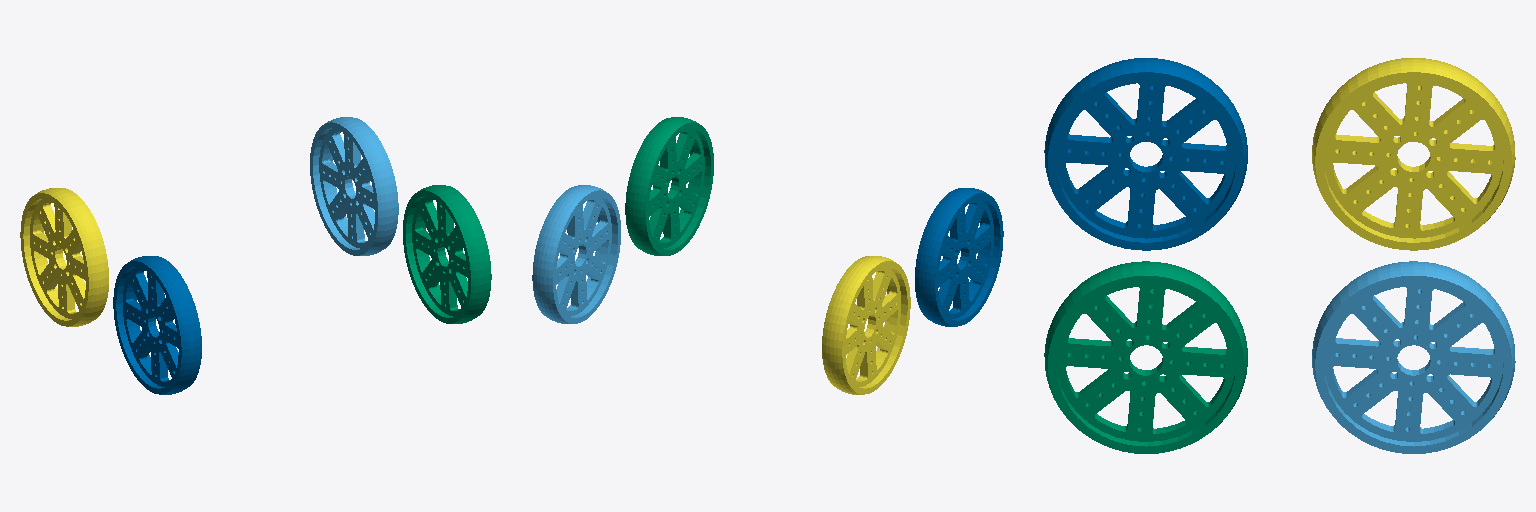
The robot description file, URDF, robot "opera":
<?xml version="1.0"?>

<robot name="opera">

    <link name="base_link">
	<inertial>
            <origin xyz="0 0 0" rpy="0 0 0"/>
            <mass value="0.01" />
            <inertia ixx="7.58333333333e-06" ixy="0.0" ixz="0.0" iyy="7.58333333333e-06" iyz="0.0" izz="1.25e-05"/>
        </inertial>

	<collision>
		<origin rpy="0 0 0" xyz="0 0 0"/>
		<geometry>
		    <mesh filename="package://opera_description/models/base.dae"/>
		</geometry>
        </collision>

        <visual>
		<origin rpy="0 0 0" xyz="0 0 0"/>
		<geometry>
		    <mesh filename="package://opera_description/models/base.dae"/>
		</geometry>
        </visual>
    </link>
  
    <link name="wheel_r1">
	<inertial>
            <origin xyz="0 0 0" rpy="0 0 0"/>
            <mass value="0.01" />
            <inertia ixx="7.58333333333e-06" ixy="0.0" ixz="0.0" iyy="7.58333333333e-06" iyz="0.0" izz="1.25e-05"/>
        </inertial>

	<collision>
            <origin rpy="0 0 0" xyz="0 0 0"/>
            <geometry>
                <mesh filename="package://opera_description/models/llanta.dae"/>
            </geometry>
        </collision>

        <visual>
            <origin rpy="0 0 0" xyz="0 0 0"/>
            <geometry>
                <mesh filename="package://opera_description/models/llanta.dae"/>
            </geometry>
        </visual>
    </link>

    <link name="wheel_r2">
	<inertial>
            <origin xyz="0 0 0" rpy="0 0 0"/>
            <mass value="0.01" />
            <inertia ixx="7.58333333333e-06" ixy="0.0" ixz="0.0" iyy="7.58333333333e-06" iyz="0.0" izz="1.25e-05"/>
        </inertial>

	<collision>
            <origin rpy="0 0 0" xyz="0 0 0"/>
            <geometry>
                <mesh filename="package://opera_description/models/llanta.dae"/>
            </geometry>
        </collision>

        <visual>
            <origin rpy="0 0 0" xyz="0 0 0"/>
            <geometry>
                <mesh filename="package://opera_description/models/llanta.dae"/>
            </geometry>
        </visual>
    </link>

    <link name="wheel_l1">
	<inertial>
            <origin xyz="0 0 0" rpy="0 0 0"/>
            <mass value="0.01" />
            <inertia ixx="7.58333333333e-06" ixy="0.0" ixz="0.0" iyy="7.58333333333e-06" iyz="0.0" izz="1.25e-05"/>
        </inertial>

	<collision>
            <origin rpy="0 0 0" xyz="0 0 0"/>
            <geometry>
                <mesh filename="package://opera_description/models/llanta.dae"/>
            </geometry>
        </collision>

        <visual>
            <origin rpy="0 0 0" xyz="0 0 0"/>
            <geometry>
                <mesh filename="package://opera_description/models/llanta.dae"/>
            </geometry>
        </visual>
    </link>

    <link name="wheel_l2">
	<inertial>
            <origin xyz="0 0 0" rpy="0 0 0"/>
            <mass value="0.01" />
            <inertia ixx="7.58333333333e-06" ixy="0.0" ixz="0.0" iyy="7.58333333333e-06" iyz="0.0" izz="1.25e-05"/>
        </inertial>

	<visual>
            <origin rpy="0 0 0" xyz="0 0 0"/>
            <geometry>
                <mesh filename="package://opera_description/models/llanta.dae"/>
            </geometry>
        </visual>

        <collision>
            <origin rpy="0 0 0" xyz="0 0 0"/>
            <geometry>
                <mesh filename="package://opera_description/models/llanta.dae"/>
            </geometry>
        </collision>
    </link>

    <joint name="motor1" type="continuous">
        <parent link="base_link"/>
        <child link="wheel_r1"/>
        <origin xyz="	0.20 0.1 0.03" rpy="0 0 0"/>
        <limit effort="0.1" velocity="0.01"/>
        <axis xyz="1 0 0"/>
    </joint>

    <joint name="motor2" type="continuous">
        <parent link="base_link"/>
        <child link="wheel_r2"/>
        <origin xyz="0.20 -0.1 0.03" rpy="0 0 0"/>
        <limit effort="0.1" velocity="0.01"/>
        <axis xyz="1 0 0"/>
    </joint>

    <joint name="motor3" type="continuous">
        <parent link="base_link"/>
        <child link="wheel_l1"/>
        <origin xyz="-0.16 0.1 0.03" rpy="0 0 0"/>
        <limit effort="0.1" velocity="0.01"/>
        <axis xyz="1 0 0"/>
    </joint>

    <joint name="motor4" type="continuous">
        <parent link="base_link"/>
        <child link="wheel_l2"/>
        <origin xyz="-0.16 -0.1 0.03" rpy="0 0 0"/>
        <limit effort="0.1" velocity="0.01"/>
        <axis xyz="1 0 0"/>
    </joint>

</robot>

--- Render facts (derived) ---
3 views of the same robot in one strip: view 1: azimuth 30°, elevation 25°; view 2: azimuth 150°, elevation 25°; view 3: azimuth 270°, elevation 25° (orthographic).
Robot: opera — 5 links, 4 joints (4 continuous); root link base_link; default pose: every joint at zero.
Links seen in each view (by area): view 1: wheel_r1, wheel_l2, wheel_l1, wheel_r2; view 2: wheel_r2, wheel_l1, wheel_l2, wheel_r1; view 3: wheel_r1, wheel_l2, wheel_r2, wheel_l1.
Boxes of the visible links, x1,y1,x2,y2 form: wheel_r1: (310, 117, 398, 255); wheel_l2: (113, 256, 201, 394); wheel_l1: (20, 188, 108, 326); wheel_r2: (403, 185, 491, 323); wheel_r2: (625, 117, 713, 255); wheel_l1: (822, 256, 910, 394); wheel_l2: (915, 188, 1003, 326); wheel_r1: (532, 185, 620, 323); wheel_r1: (1312, 261, 1515, 453); wheel_l2: (1044, 58, 1247, 250); wheel_r2: (1044, 261, 1247, 453); wheel_l1: (1312, 58, 1515, 250).
Size in the robot's own frame: 0.3854 by 0.3521 by 0.1523 metres.
Meshes: 2 distinct files referenced, 4 mesh visuals loaded (1 Collada DAE); not drawn: 1 (reference not matched to a file when rendering).